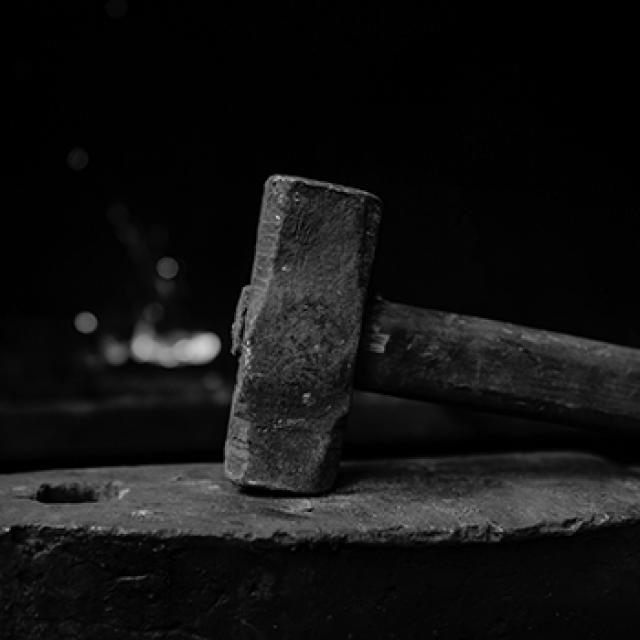hammer: (206, 160, 640, 505)
